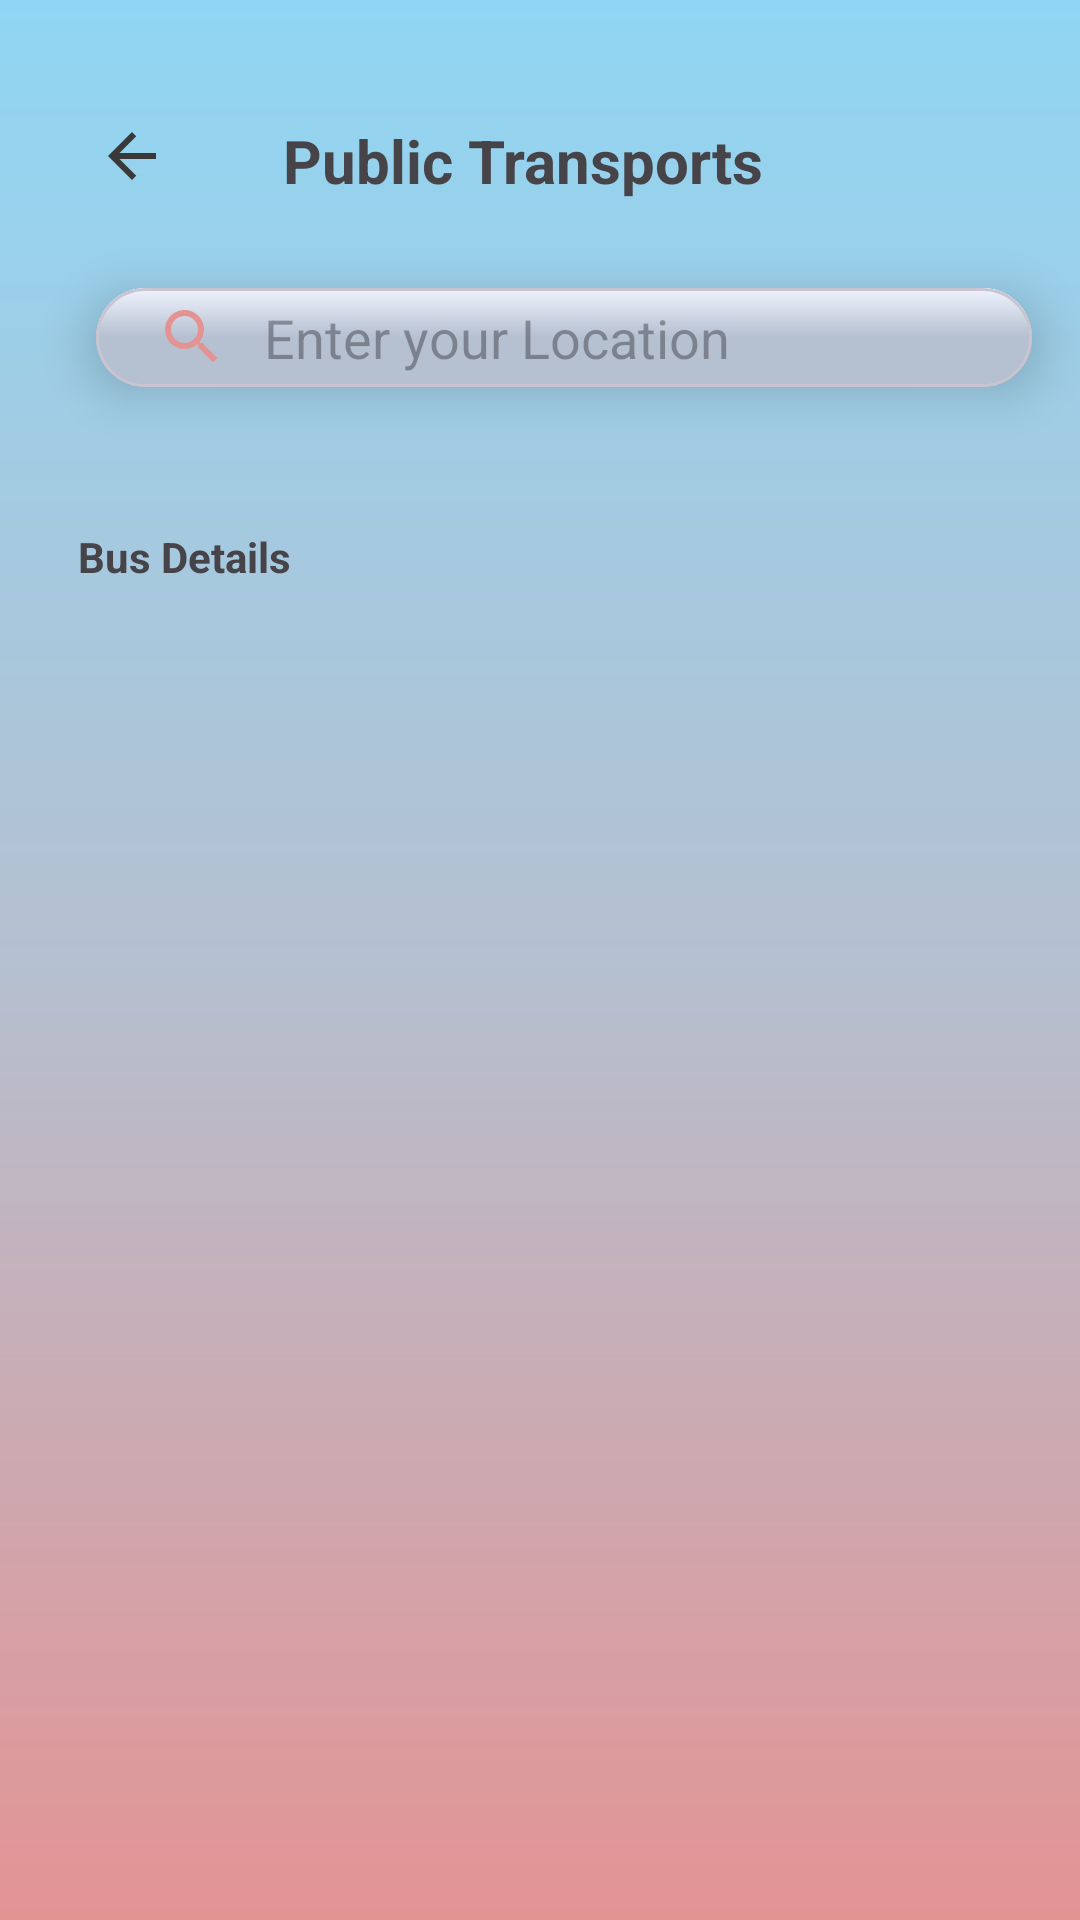

Icon bounding boxes for this 1080*1920 phone screenshot, format (x1, y1, x2, y2):
arrow back: (108, 132, 156, 180)
